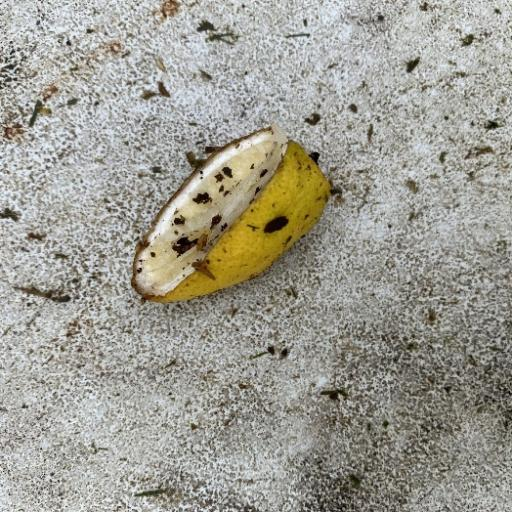Waste: (129, 121, 332, 304)
